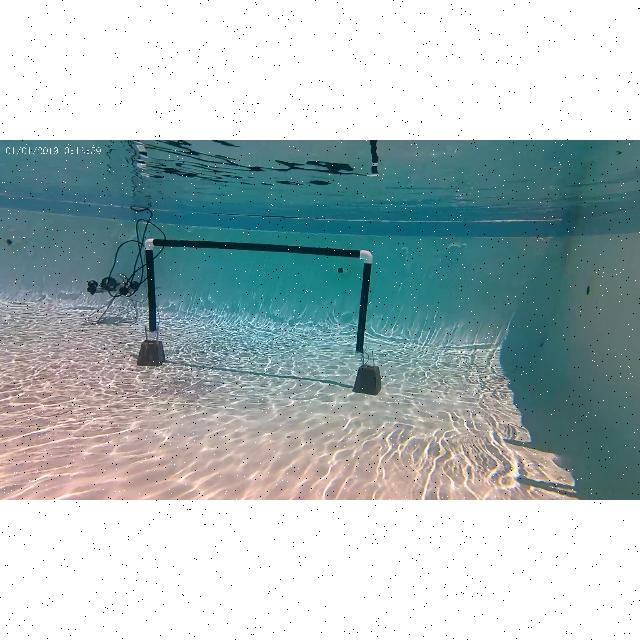prequal gate: (144, 238, 373, 358)
prequal gate leg l: (139, 240, 161, 362)
prequal gate leg r: (354, 248, 382, 388)
